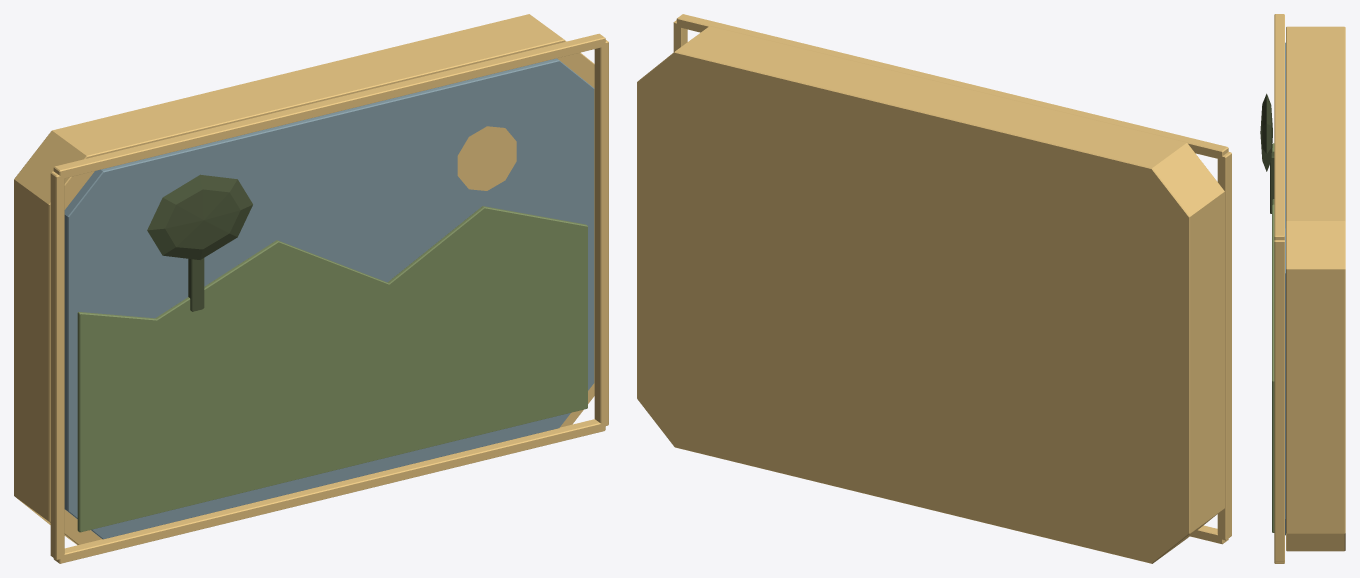
File: puzzle.glb
3 renders of one model, left to right at view 1: azimuth 30°, elevation 25°; view 2: azimuth 150°, elevation 25°; view 3: azimuth 270°, elevation 25°, orthographic. The views are drawn at different scales.
Parts seen in each view (by area): view 1: puzzle; view 2: puzzle; view 3: puzzle.
Boxes of the visible parts, x1,y1,x2,y2 form: puzzle: (14,14,608,563); puzzle: (637,14,1231,563); puzzle: (1260,14,1345,563).
Size of the model in its own units: 0.25 by 0.171 by 0.04.
